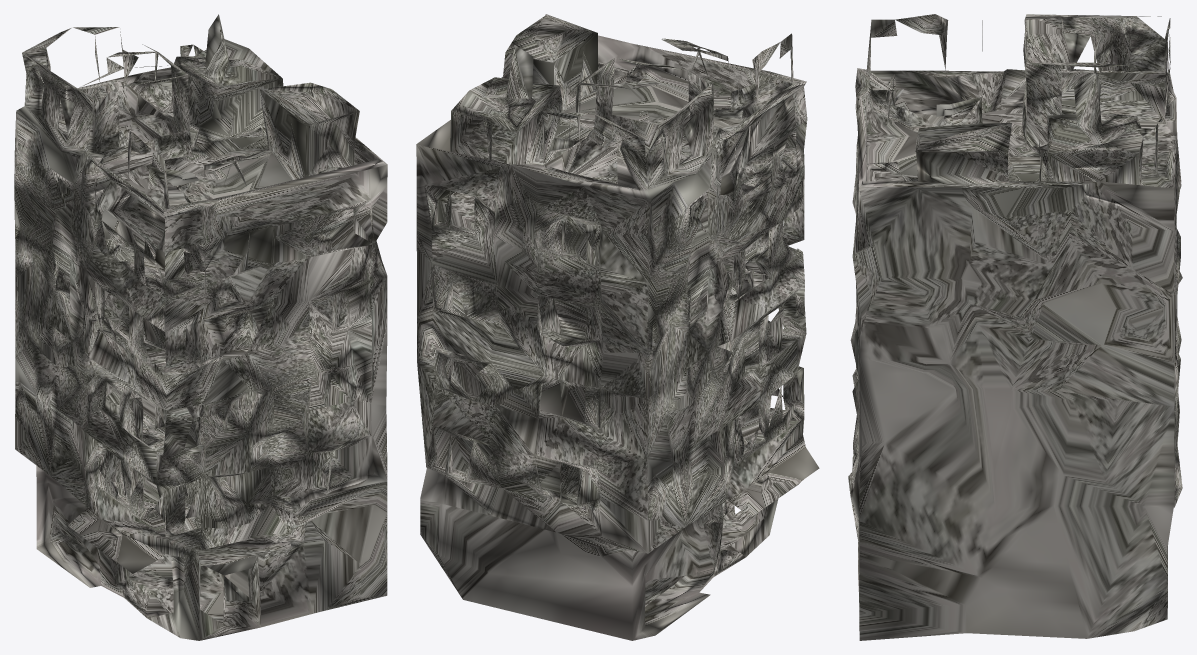
Rendered from upload-2cd-lod.glb.
3 views of the same model, side by side, from view 1: azimuth 30°, elevation 25°; view 2: azimuth 150°, elevation 25°; view 3: azimuth 270°, elevation 25° (orthographic). The views are drawn at different scales.
Parts seen in each view (by area): view 1: tripo_node_2cd653c0-b6d2-40ae-abf1-8d023de54f7e; view 2: tripo_node_2cd653c0-b6d2-40ae-abf1-8d023de54f7e; view 3: tripo_node_2cd653c0-b6d2-40ae-abf1-8d023de54f7e.
Boxes of the visible parts, x1,y1,x2,y2 form: tripo_node_2cd653c0-b6d2-40ae-abf1-8d023de54f7e: [14, 14, 387, 640]; tripo_node_2cd653c0-b6d2-40ae-abf1-8d023de54f7e: [416, 14, 819, 640]; tripo_node_2cd653c0-b6d2-40ae-abf1-8d023de54f7e: [848, 14, 1182, 640].
Bounding box in the file's own units: 0.5035 × 0.9962 × 0.5603.
Materials: 1 (1 with a texture image).
